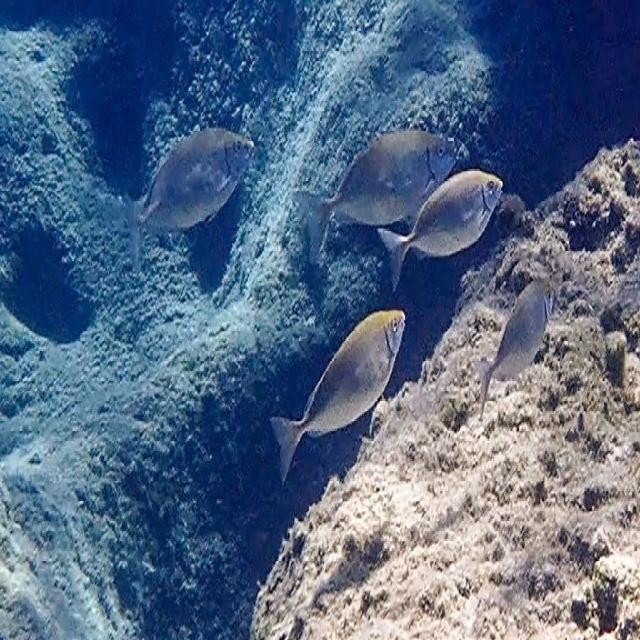Sokar Baligi: (273, 285, 416, 492), (120, 103, 271, 273), (466, 264, 571, 427)
